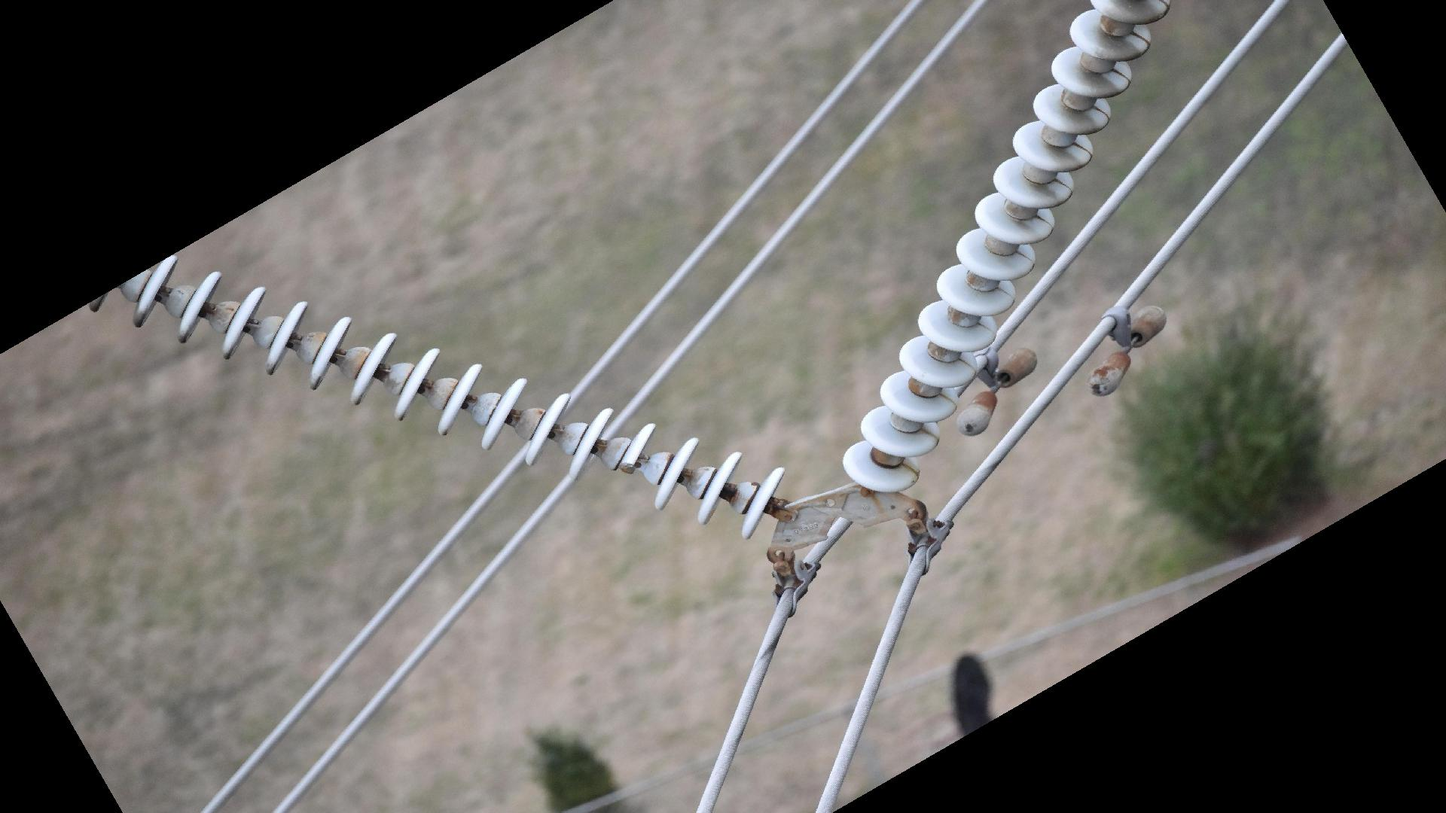insulator: (127, 251, 788, 546), (836, 1, 1176, 501)
insulator_breakage: (613, 458, 637, 480)
